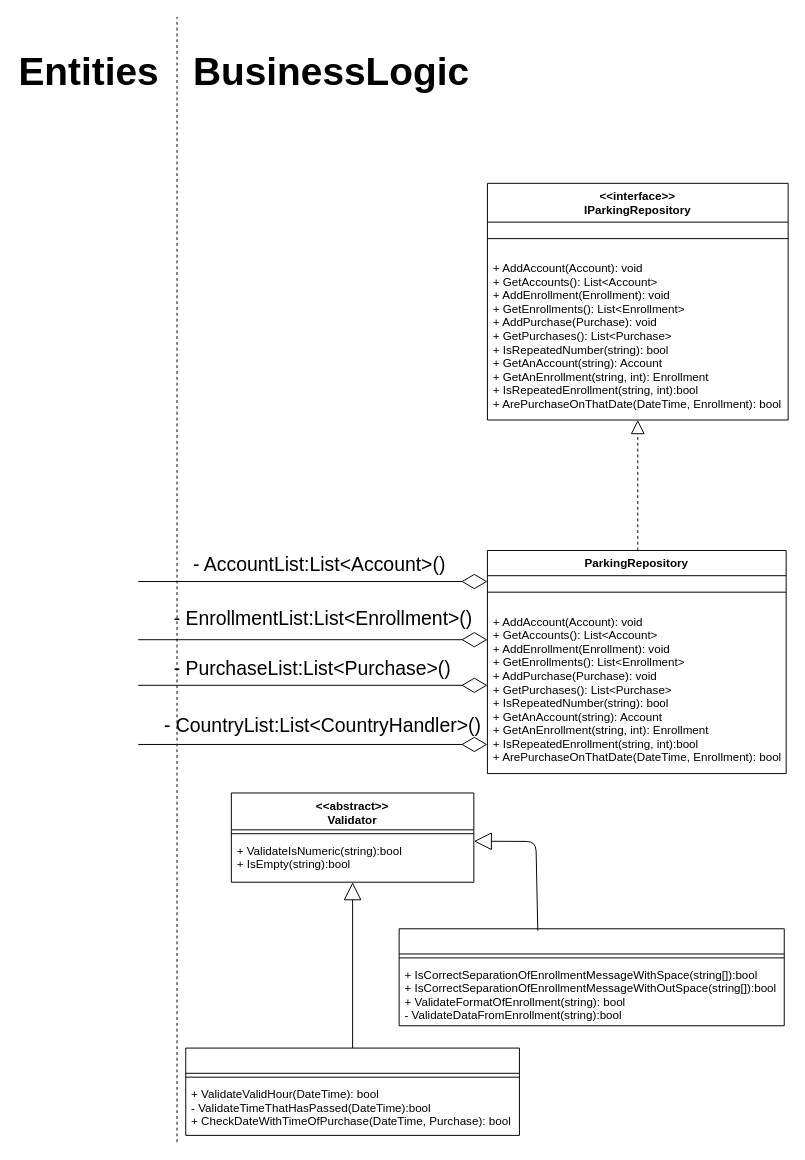
This 805x1160 diagram has some shape labels left out. The shapes that lost their labels are listed below. From the top down, each one's box as (x1, y1, x2, y2) in pixels, then its label:
(398, 928, 784, 1026): ValidatorOfEnrollment
(185, 1047, 519, 1135): ValidatorOfDate
